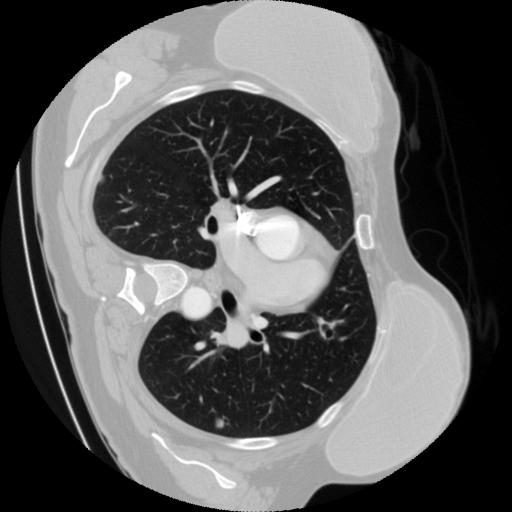nodule: (211, 414, 230, 433)
